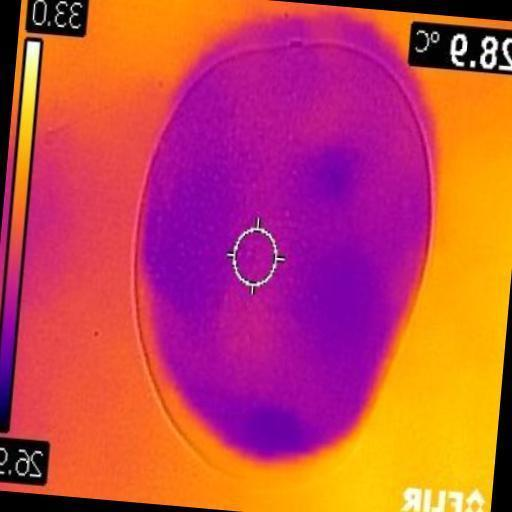alphanso: (136, 37, 430, 487)
